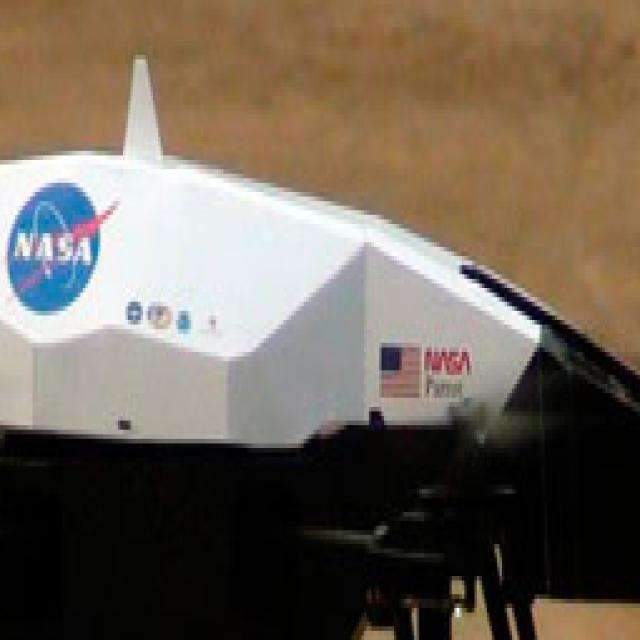drone: (0, 251, 610, 640)
